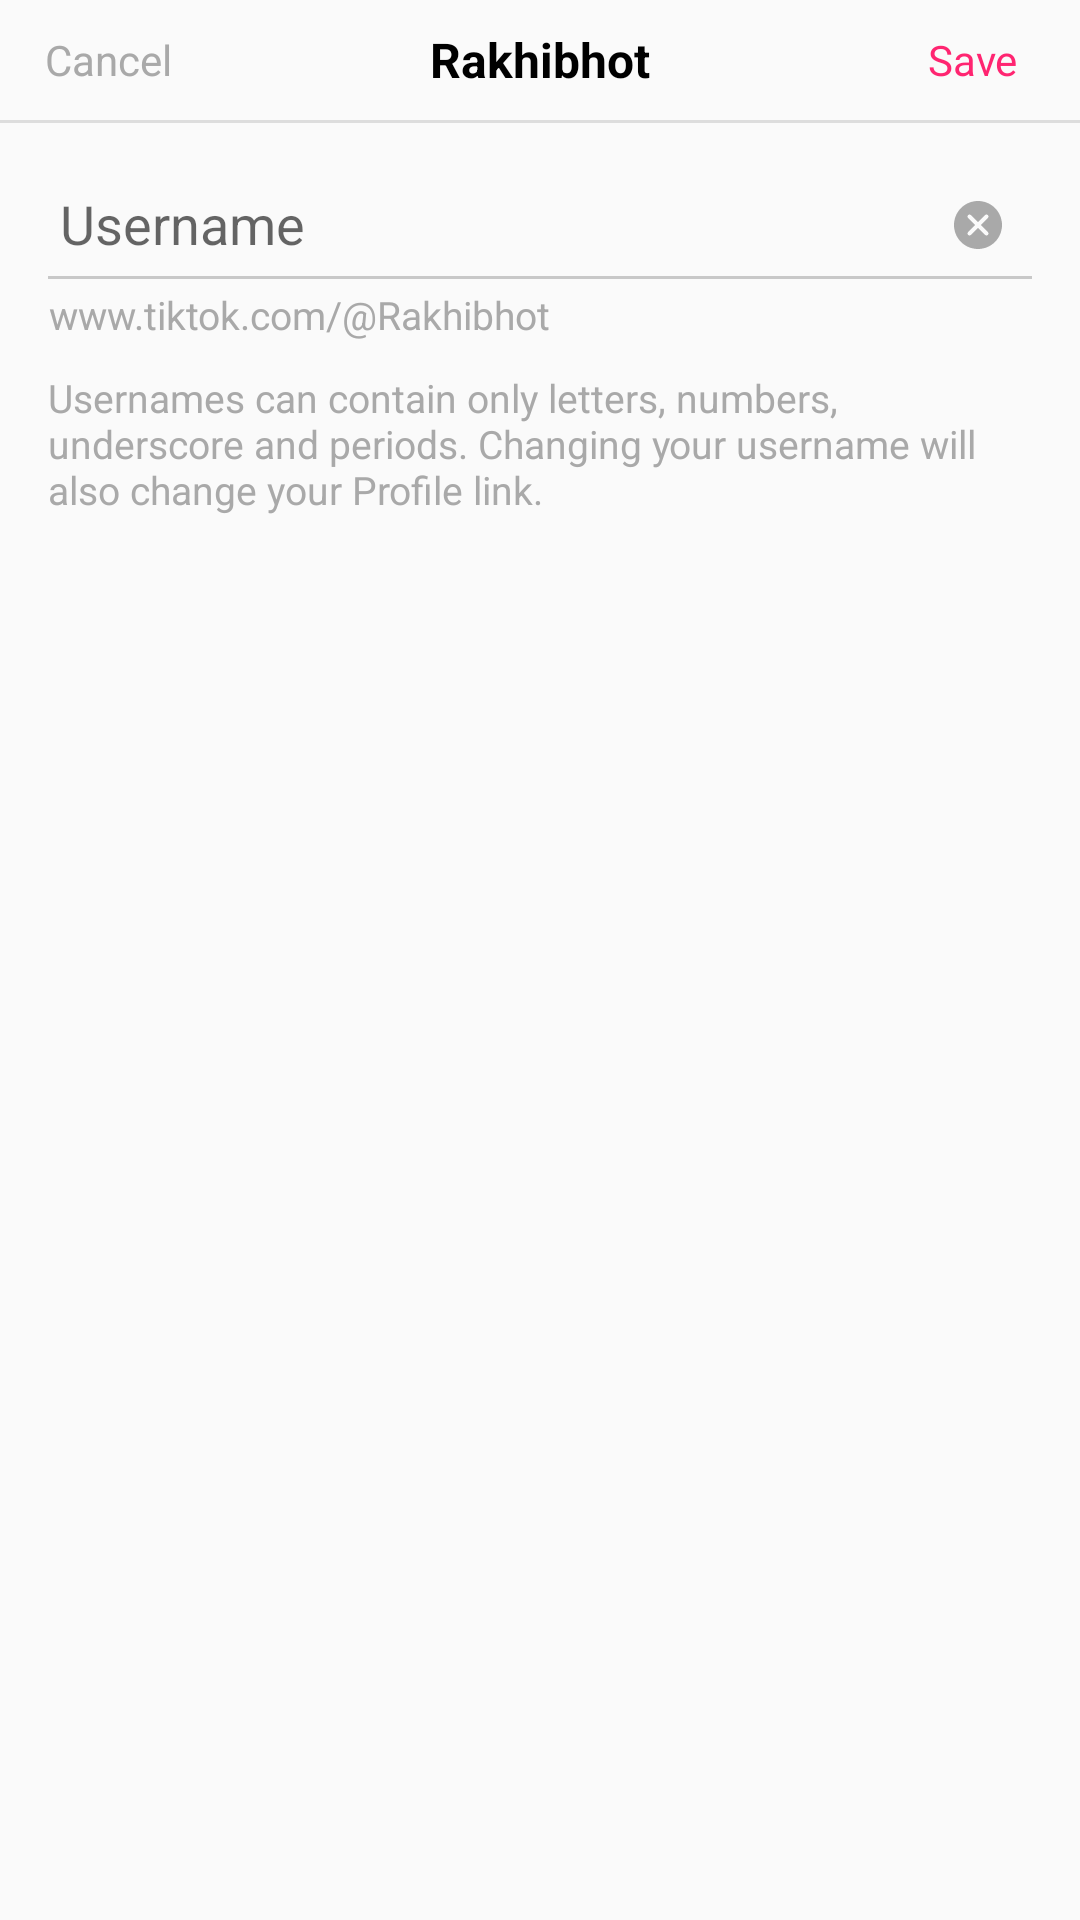

Named icons in this screenshot (1080×1920) and their centers, (x=x, y=y):
close: (x=978, y=225)
